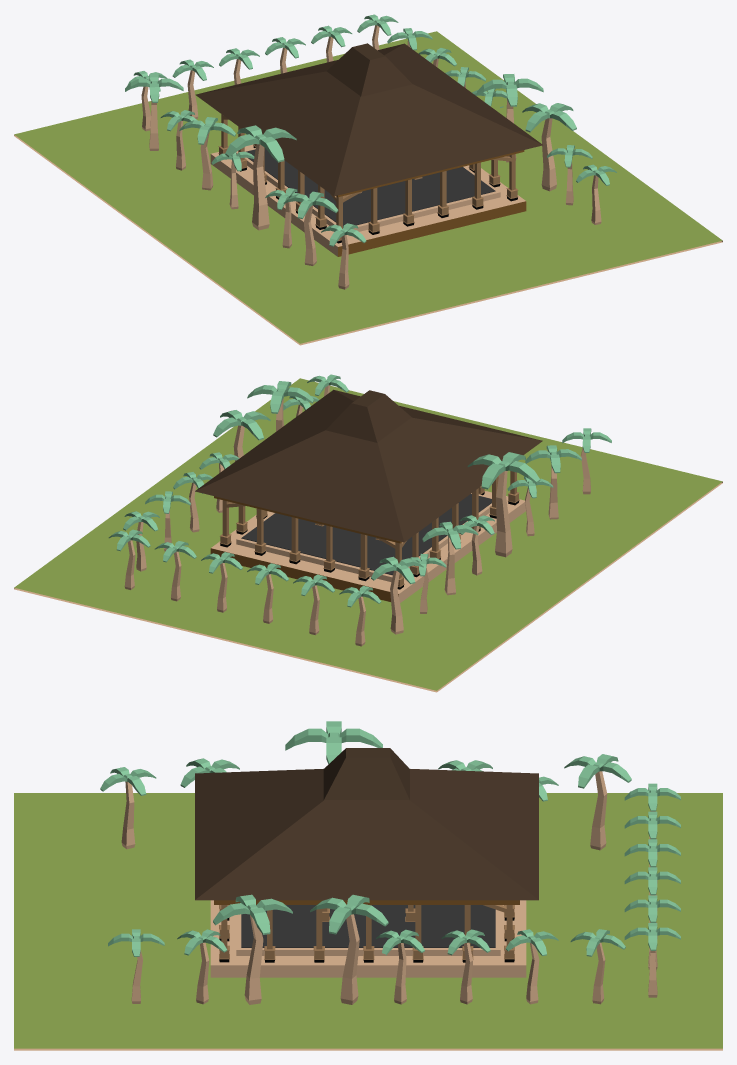
Rendered from pendopo.glb.
3 views of the same model, one above another, from view 1: azimuth 30°, elevation 25°; view 2: azimuth 150°, elevation 25°; view 3: azimuth 270°, elevation 25° (orthographic). The views are drawn at different scales.
Visible parts, largest first — view 1: Plane, Cube.001, Group 30, Group 30.001, Cube.002, Plane.001, Plane.002; view 2: Plane, Cube.001, Group 30, Group 30.001, Plane.001, Cube.002, Plane.002; view 3: Plane, Cube.001, Group 30, Group 30.001, Cube.002, Plane.002, Cube, Plane.001.
Boxes of the visible parts, x1,y1,x2,y2 form: Plane: [14, 31, 722, 345]; Cube.001: [195, 43, 542, 196]; Group 30: [125, 28, 616, 289]; Group 30.001: [127, 14, 398, 131]; Cube.002: [326, 43, 412, 96]; Plane.001: [218, 114, 518, 243]; Plane.002: [238, 126, 500, 229]; Plane: [14, 378, 722, 692]; Cube.001: [195, 389, 542, 542]; Group 30: [123, 374, 611, 634]; Group 30.001: [108, 529, 381, 646]; Plane.001: [220, 471, 519, 589]; Cube.002: [326, 390, 411, 442]; Plane.002: [236, 476, 498, 577]; Plane: [14, 793, 722, 1050]; Cube.001: [195, 768, 538, 900]; Group 30: [100, 721, 631, 1004]; Group 30.001: [624, 783, 680, 997]; Cube.002: [323, 748, 409, 799]; Plane.002: [264, 905, 473, 962]; Cube: [214, 900, 519, 904]; Plane.001: [219, 905, 514, 962].
Bounding box in the file's own units: 24.28 × 7.54 × 28.45.
